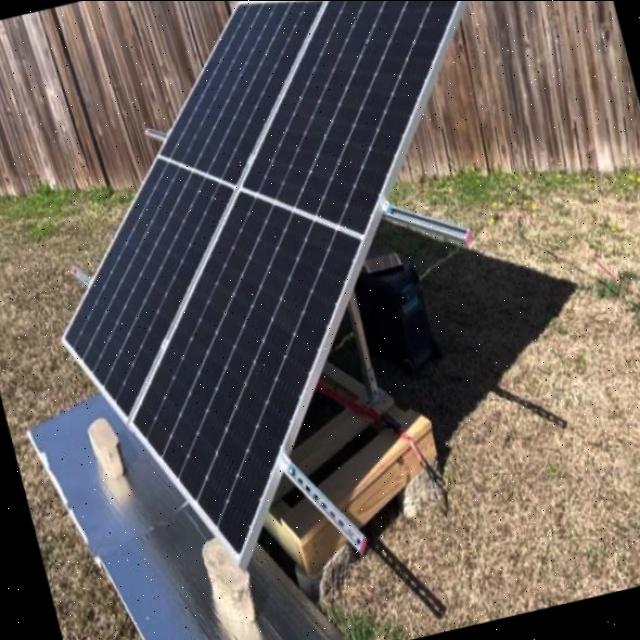Normal Solar Panel: (0, 0, 582, 591)
